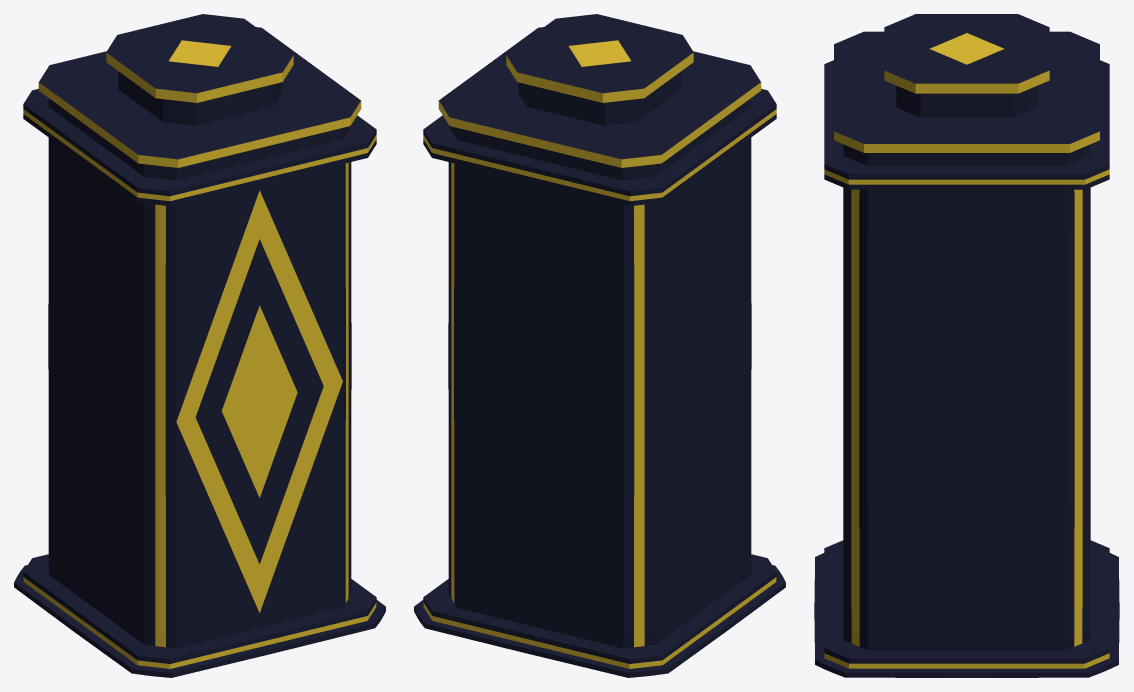
File: LaserBox.fbx
3 renders of one model, left to right at view 1: azimuth 30°, elevation 25°; view 2: azimuth 150°, elevation 25°; view 3: azimuth 270°, elevation 25°, orthographic. The views are drawn at different scales.
Parts seen in each view (by area): view 1: Cube; view 2: Cube; view 3: Cube.
Part boxes in pixels (x1,y1,x2,y2): Cube: (14,14,385,677); Cube: (414,14,785,677); Cube: (814,14,1119,677).
Bounding box in the file's own units: 1.26 × 2.58 × 1.26.
